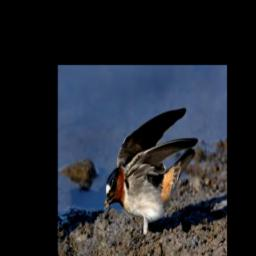Swallow: (105, 107, 198, 250)
